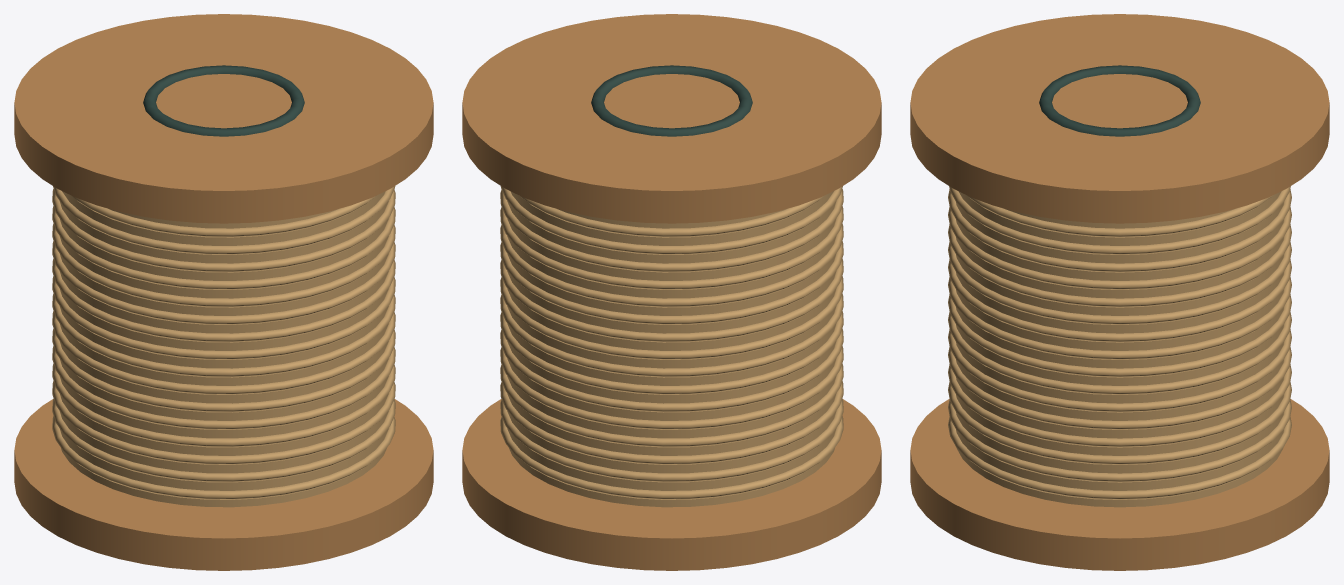
File: interaction-spool.glb
3 renders of one model, left to right at view 1: azimuth 30°, elevation 25°; view 2: azimuth 150°, elevation 25°; view 3: azimuth 270°, elevation 25°, orthographic.
Visible parts, largest first — view 1: spool_wood, spool_thread, spool_dark; view 2: spool_wood, spool_thread, spool_dark; view 3: spool_wood, spool_thread, spool_dark.
Boxes of the visible parts, box(x1,y1,x2,y2) form: spool_wood: box(14, 14, 433, 570); spool_thread: box(52, 186, 395, 507); spool_dark: box(143, 65, 304, 136); spool_wood: box(462, 14, 881, 570); spool_thread: box(500, 186, 843, 507); spool_dark: box(591, 65, 752, 136); spool_wood: box(910, 14, 1329, 570); spool_thread: box(948, 186, 1291, 507); spool_dark: box(1039, 65, 1200, 136).
Size of the model in its own units: 0.76 by 0.7762 by 0.76.
